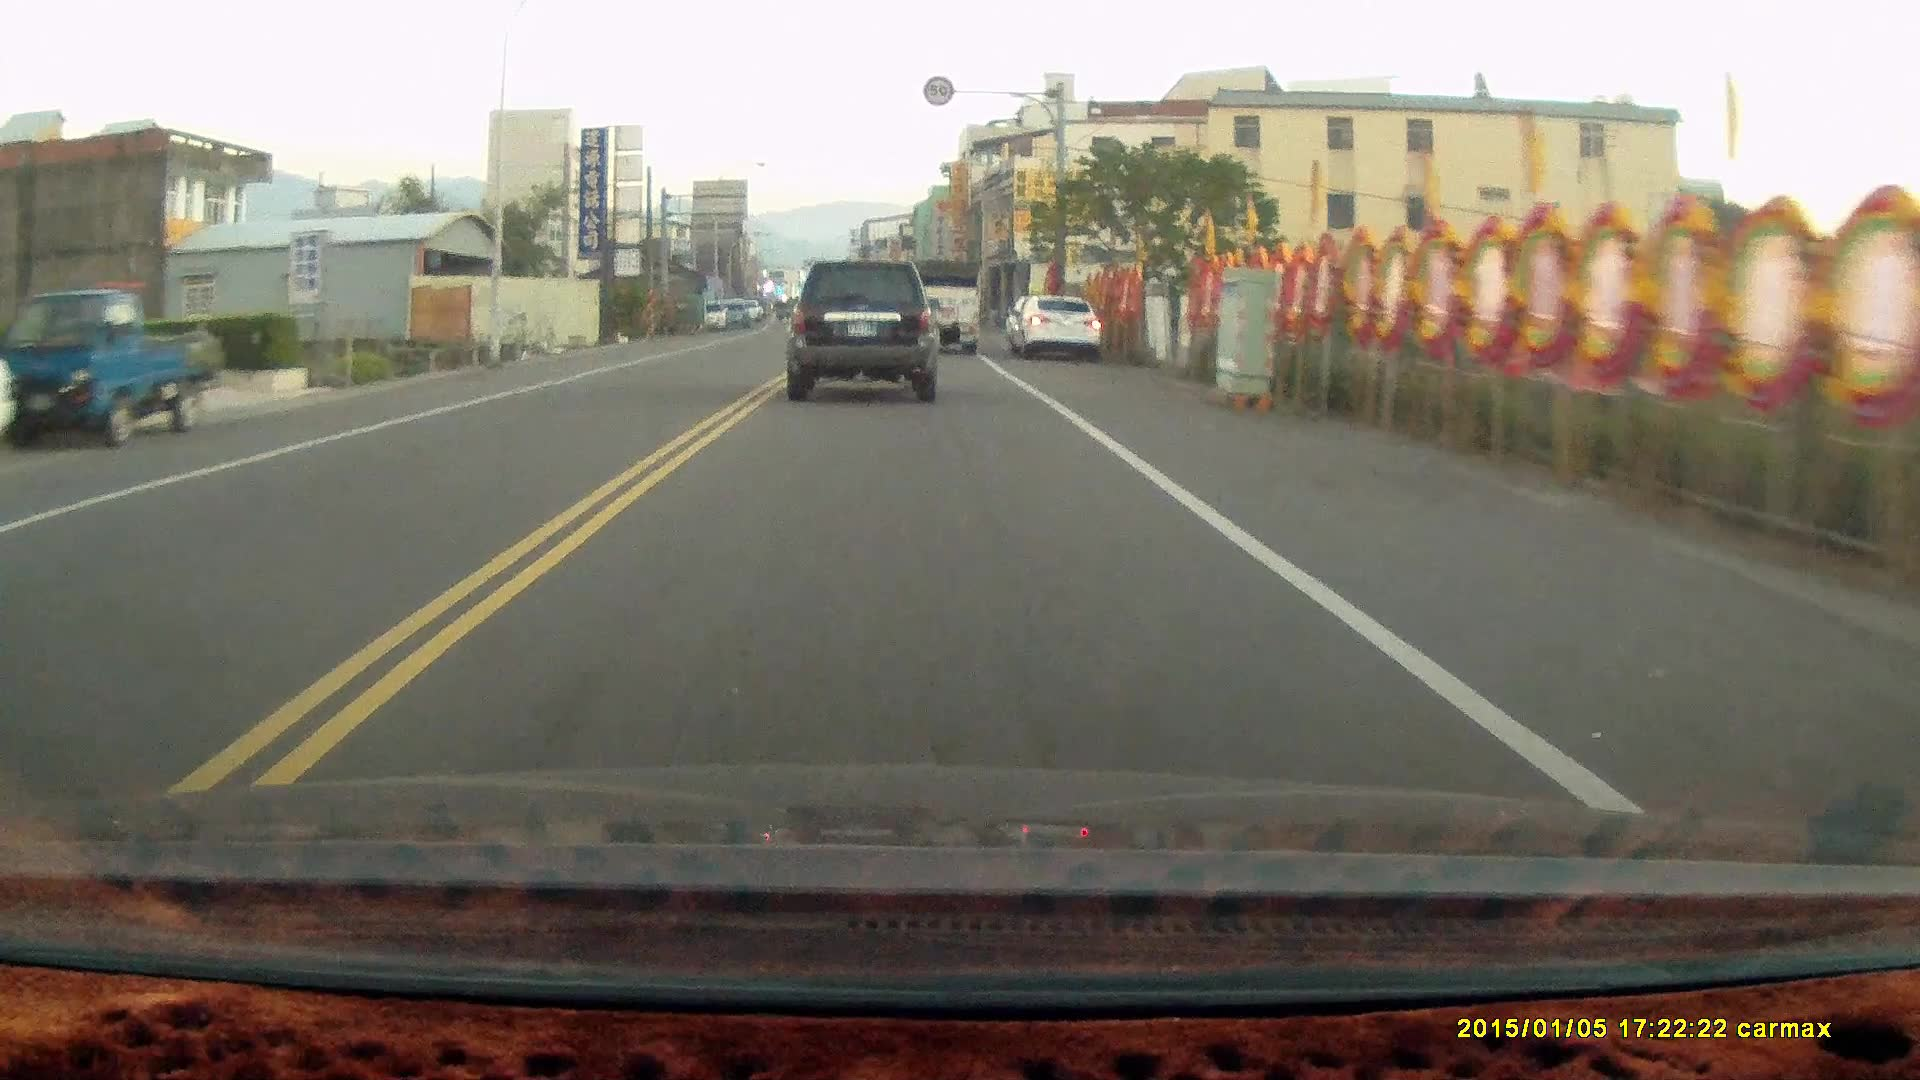vehicle: (12, 287, 225, 452), (789, 258, 938, 404), (910, 257, 986, 356), (1010, 297, 1106, 363)
